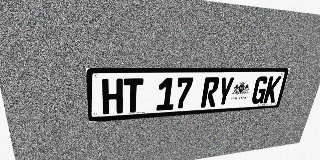1: (156, 78, 176, 111)
7: (174, 77, 194, 109)
G: (250, 76, 269, 104)
H: (102, 78, 123, 114)
K: (263, 76, 282, 103)
R: (200, 77, 220, 108)
T: (123, 78, 143, 113)
Y: (215, 77, 235, 107)
